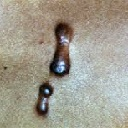Keloids: (49, 19, 73, 78), (33, 83, 54, 115)
